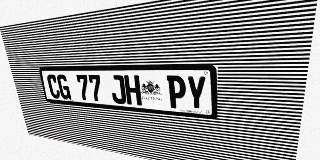7: (87, 75, 104, 102), (75, 75, 91, 101)
C: (46, 74, 61, 99)
G: (56, 75, 71, 100)
H: (124, 75, 142, 106)
J: (109, 75, 127, 104)
P: (167, 75, 186, 109)
Y: (186, 76, 206, 111)
